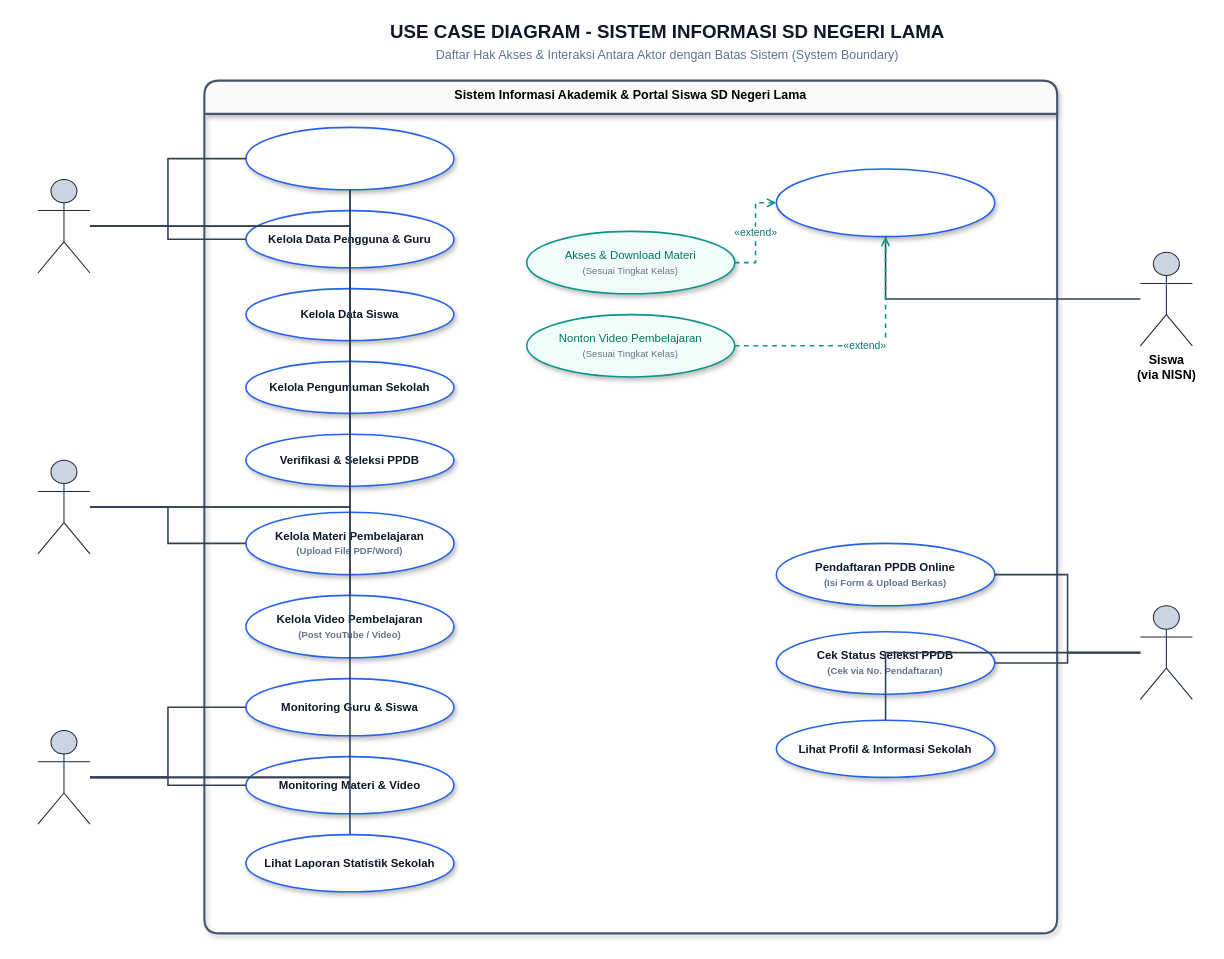
Image size: 1224x959. Some labels were removed from this diagram. Each missing label, with the centre of its shape:
"Admin" goes at pixel 63 225.
"Calon Siswa / Wali Murid" goes at pixel 1165 652.
"Guru" goes at pixel 63 506.
"Input NISN Portal Siswa (Tanpa Login Password)" goes at pixel 886 204.
"Kepala Sekolah" goes at pixel 63 777.
"Login Sistem (/admin, /guru, /kepsek)" goes at pixel 351 159.
